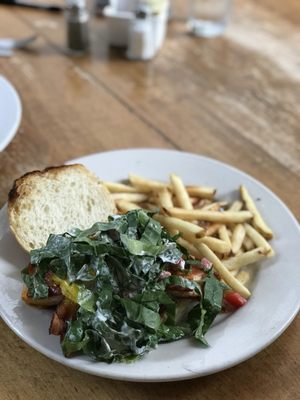pizza: (186, 0, 232, 39)
